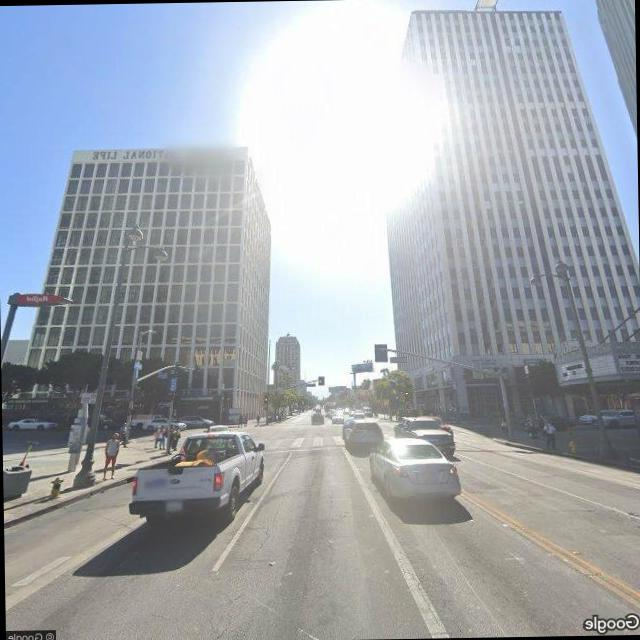crack: (244, 494, 287, 560)
